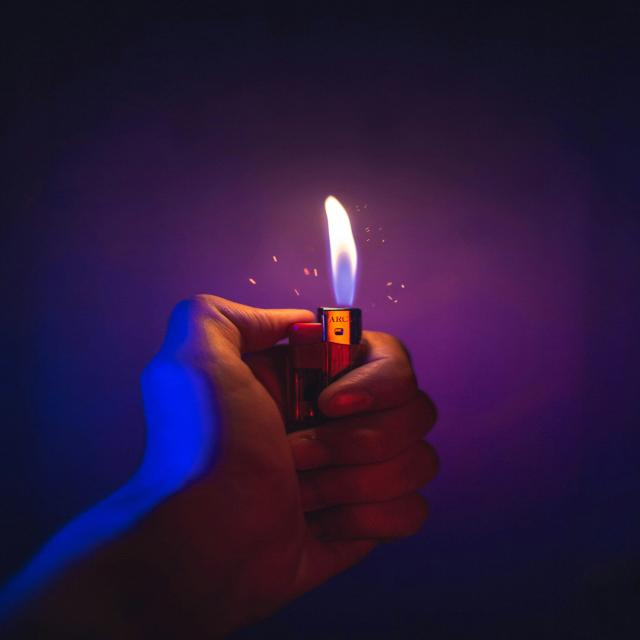fire: (324, 196, 356, 304)
